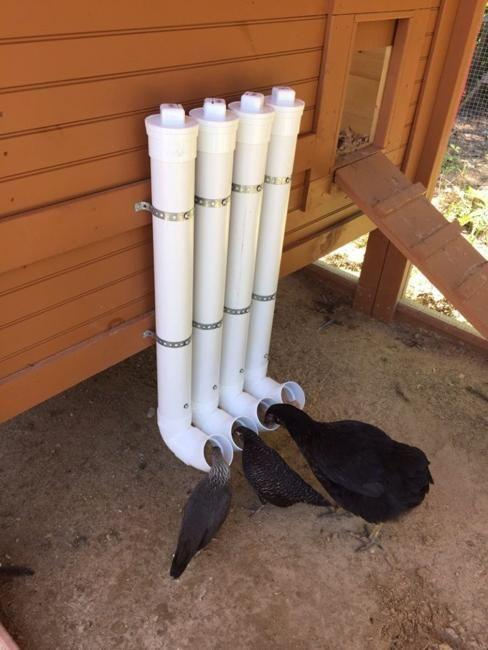PVC: (145, 103, 195, 444), (197, 99, 228, 441), (260, 86, 286, 405), (237, 93, 260, 417)
